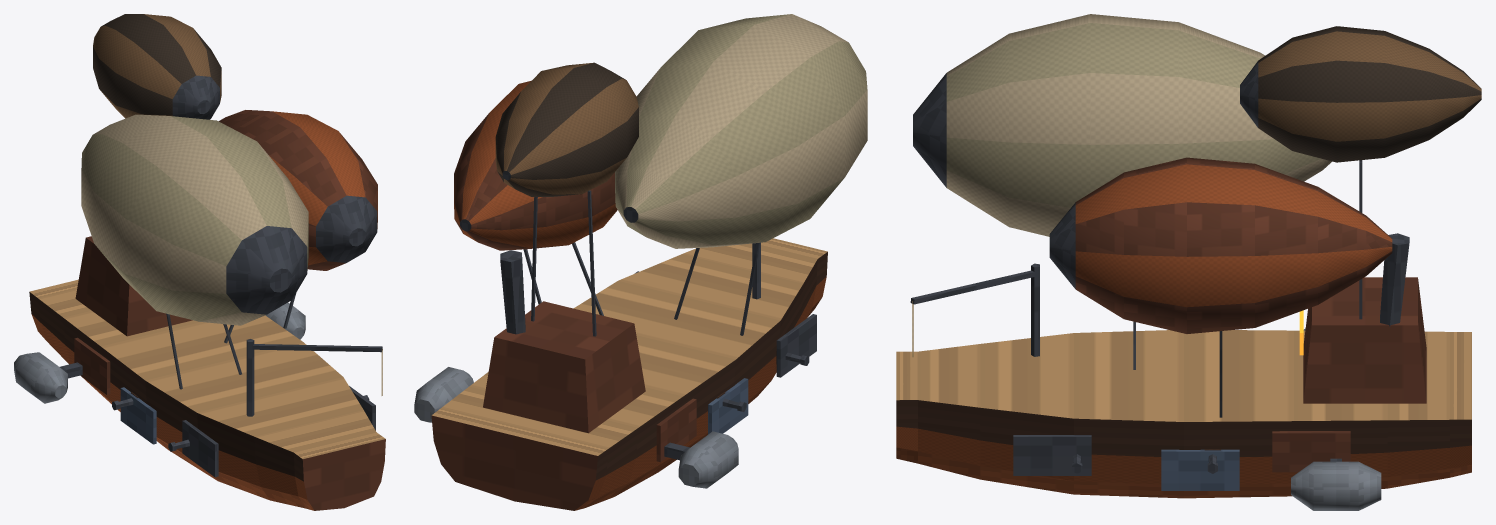
The model's file is SM_Ship_ScrapRaider_HQ.glb.
The picture shows the model from 3 angles, left to right: view 1: azimuth 30°, elevation 25°; view 2: azimuth 150°, elevation 25°; view 3: azimuth 270°, elevation 25°; orthographic projection. The views are drawn at different scales.
Visible parts, largest first — view 1: SM_Ship_ScrapRaider_HQ; view 2: SM_Ship_ScrapRaider_HQ; view 3: SM_Ship_ScrapRaider_HQ.
Boxes of the visible parts, x1,y1,x2,y2 form: SM_Ship_ScrapRaider_HQ: (14,14,385,510); SM_Ship_ScrapRaider_HQ: (414,14,867,510); SM_Ship_ScrapRaider_HQ: (896,14,1481,510).
Bounding box in the file's own units: 9.32 × 11.89 × 14.24.
Materials: 1 (1 with a texture image).
